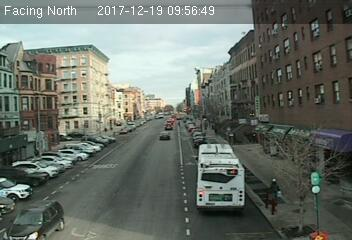bus: (196, 143, 246, 213)
car: (3, 198, 64, 240), (159, 131, 169, 139)
pedestrian: (267, 179, 282, 208)
